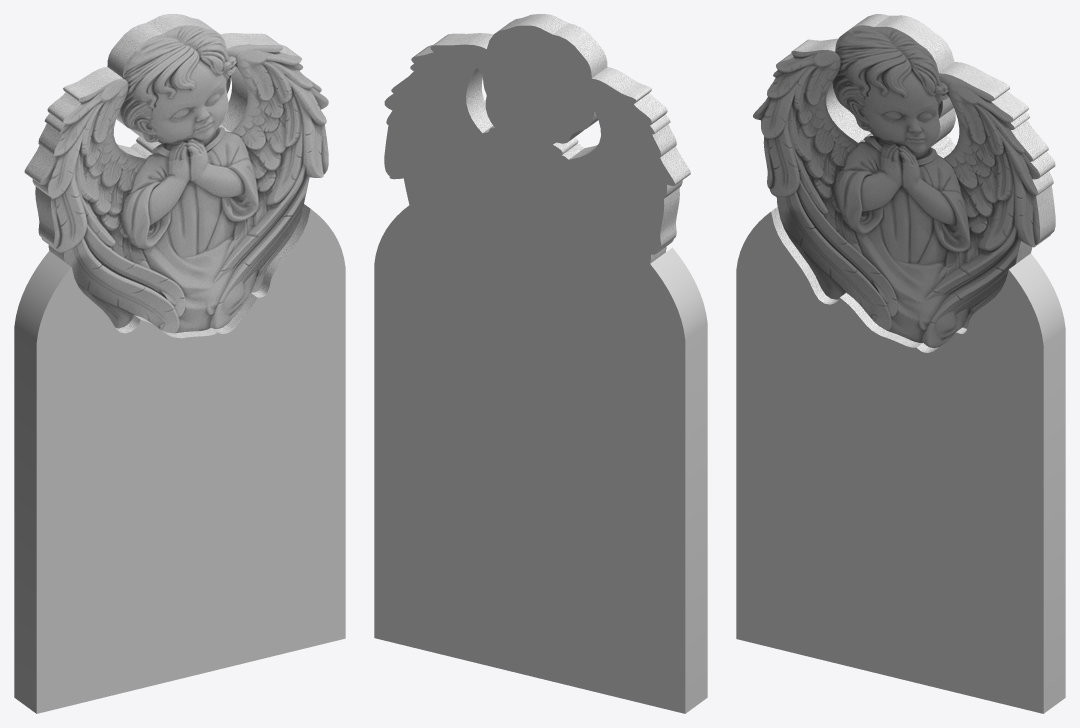
File: cn7d17d5ba2f_tkf.glb
3 renders of one model, left to right at view 1: azimuth 30°, elevation 25°; view 2: azimuth 150°, elevation 25°; view 3: azimuth 330°, elevation 25°, orthographic.
Visible parts, largest first — view 1: Pam-d01-069, Pam-d01-069_2_notexture; view 2: Pam-d01-069, Pam-d01-069_2_notexture; view 3: Pam-d01-069, Pam-d01-069_2_notexture.
Boxes of the visible parts, x1,y1,x2,y2 form: Pam-d01-069: [14, 209, 345, 713]; Pam-d01-069_2_notexture: [24, 14, 328, 338]; Pam-d01-069: [374, 25, 707, 713]; Pam-d01-069_2_notexture: [389, 14, 690, 263]; Pam-d01-069: [736, 212, 1065, 713]; Pam-d01-069_2_notexture: [753, 14, 1055, 352].
Size of the model in its own units: 0.4 by 0.8 by 0.05.
Materials: 1 (1 with a texture image).
